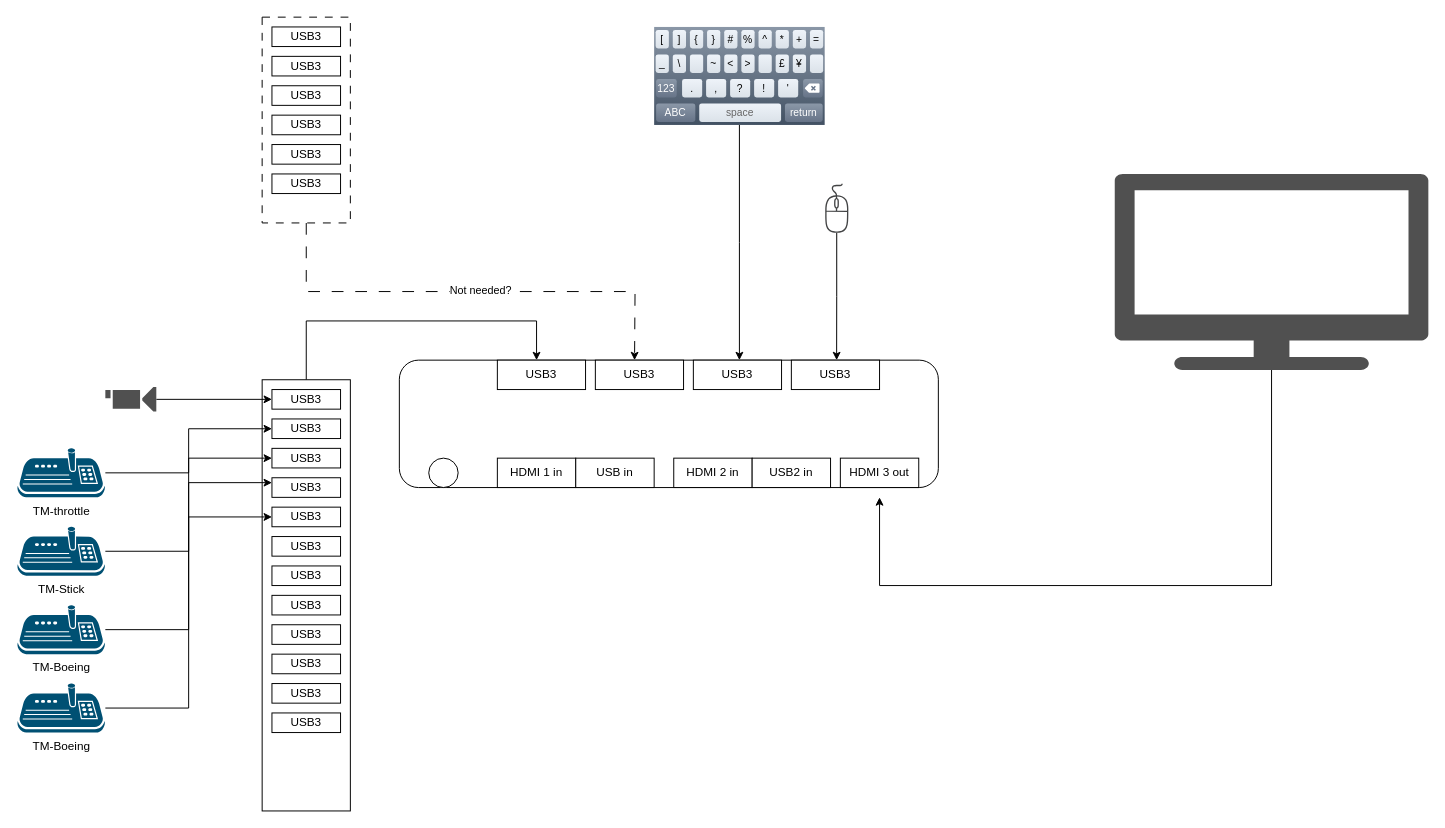
This 1445x828 diagram has some shape labels left out. The centre of each missing label's shape, as x and y in pixels:
DC: point 443,472
Insta 360: point 130,399
